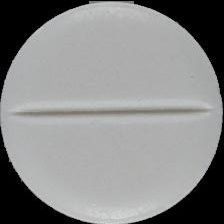43063-643: (0, 0, 224, 224)
